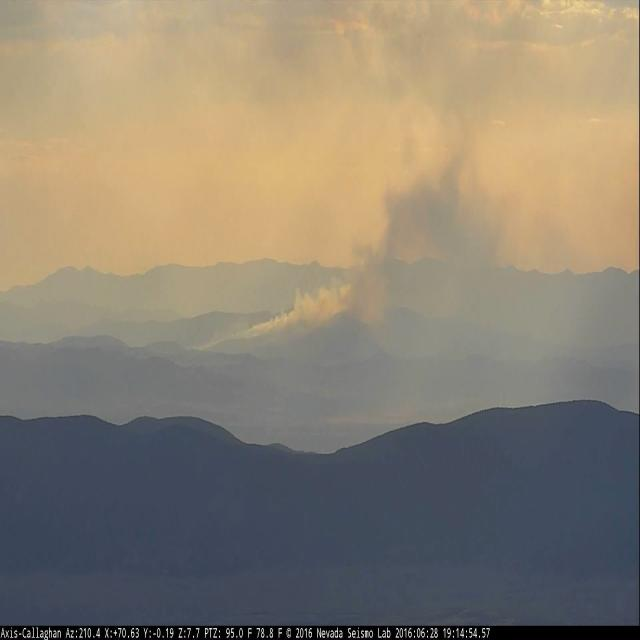smoke: (191, 158, 498, 356)
